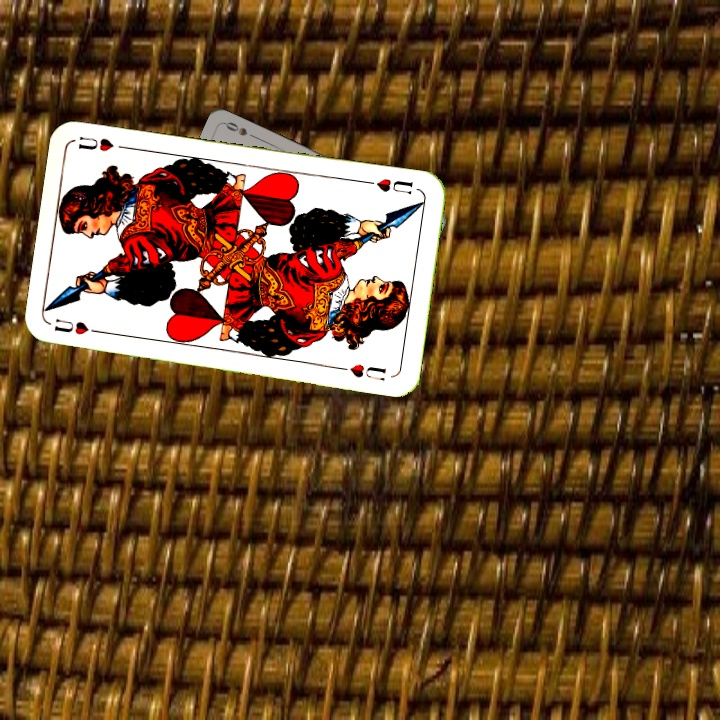HU: (361, 174, 416, 197), (50, 315, 107, 337)
